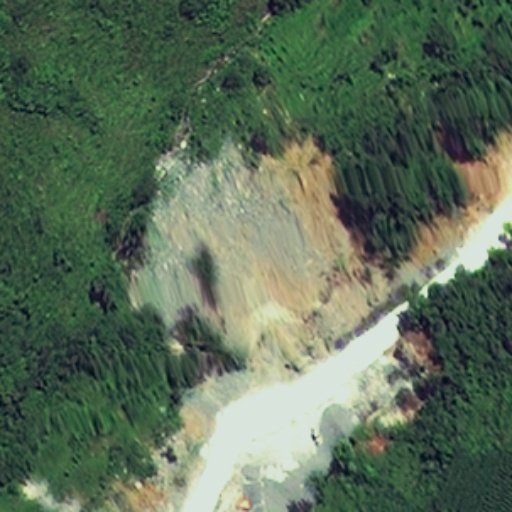landslide: (125, 145, 369, 350)
